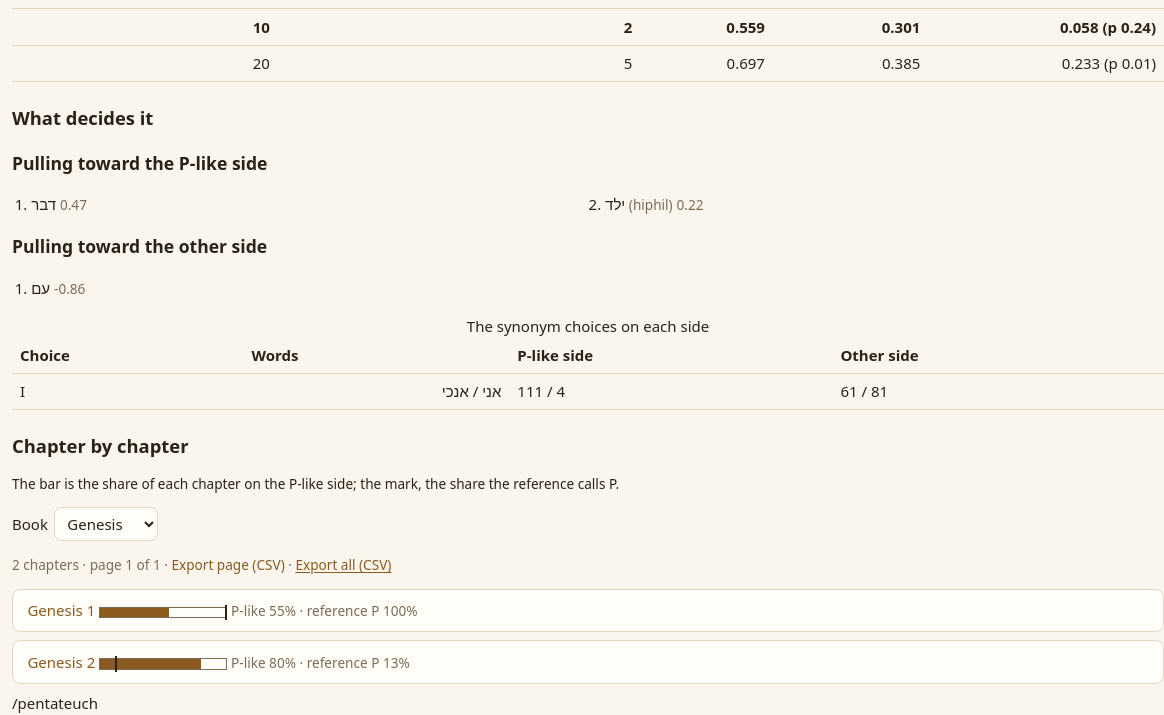
Test: PentateuchPage › draws each chapter against the reference and switches books through the URL
The width and height of the screenshot is (1164, 715).
(page scrolled)
Expected: the link "Genesis 1" is shown, [27, 600, 95, 620]
Expected: the picture named "P-like 80% · reference P 13%" is shown, [99, 658, 227, 670]
Select "Leviticus" in the dropdown labelled "Book" at (106, 524), box [54, 508, 158, 541]
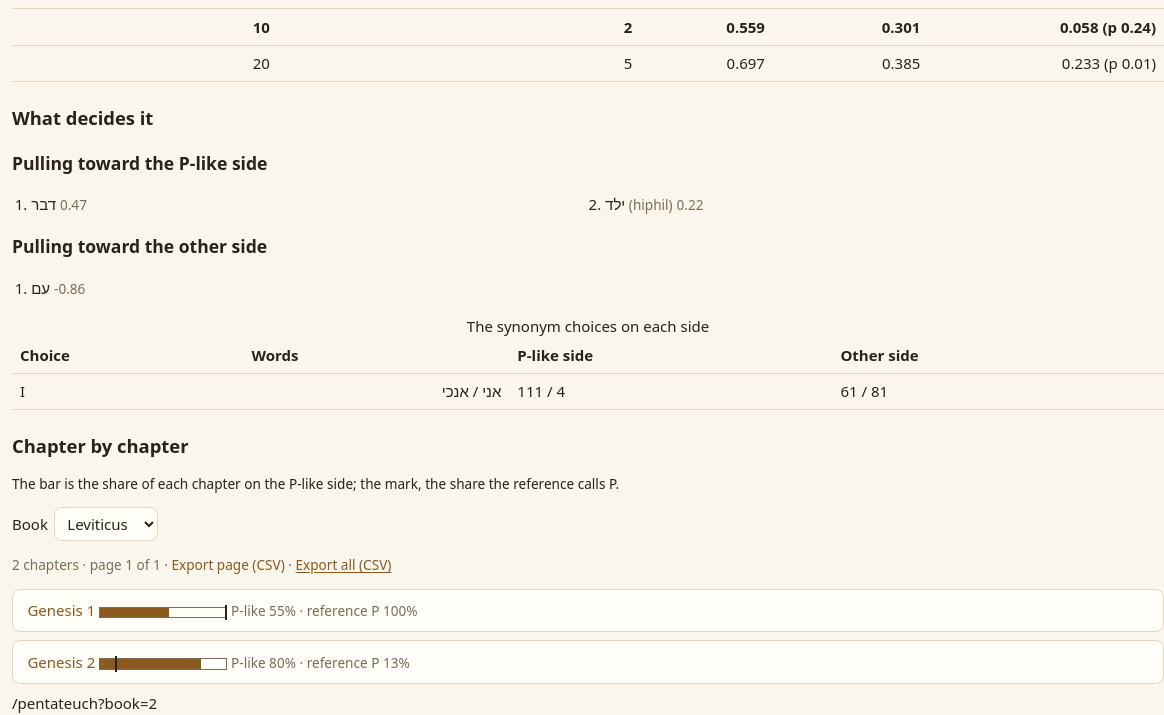
Expected: the text with test id "loc" reads "/pentateuch?book=2", [12, 693, 157, 713]
